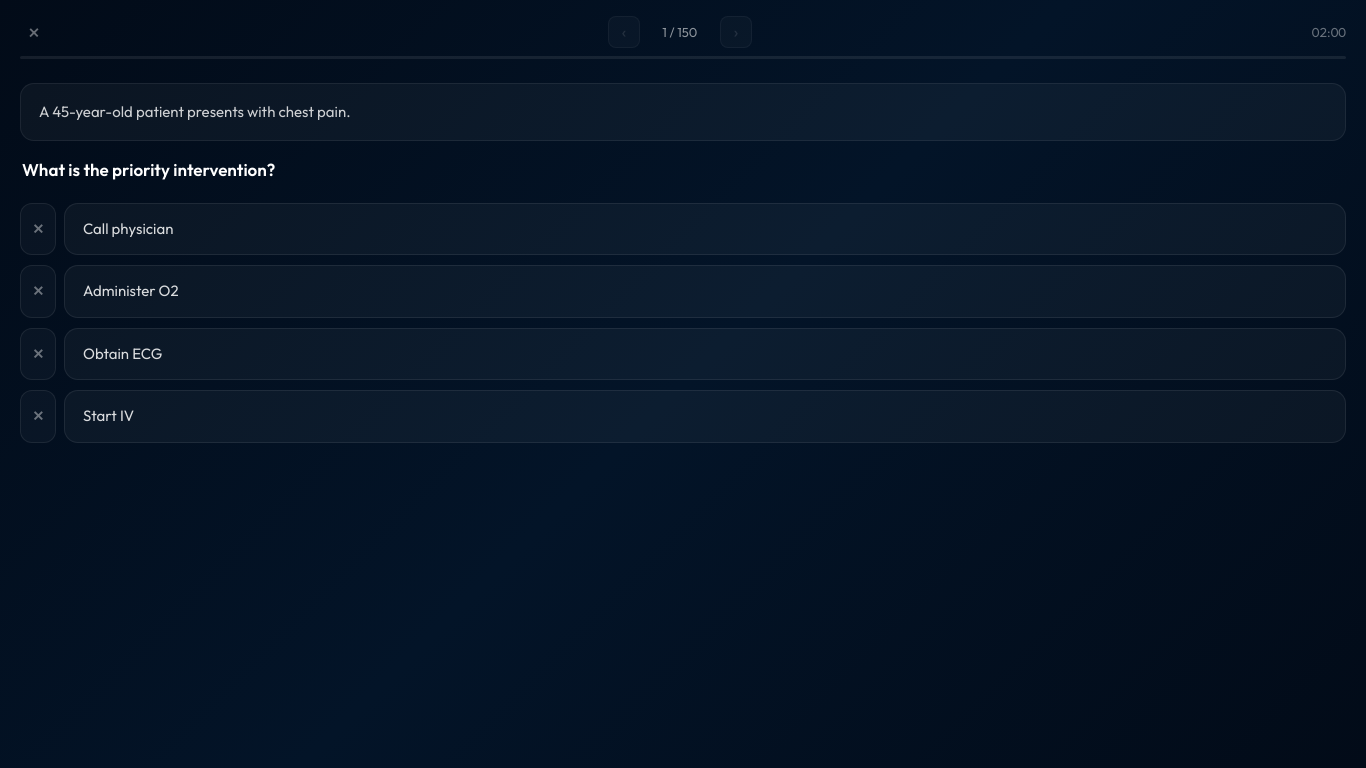
CATScreen › dismisses exit modal when "Keep Going" is clicked
The image size is (1366, 768).
Click the button named "Exit CAT": (34, 32) [20, 17, 48, 47]
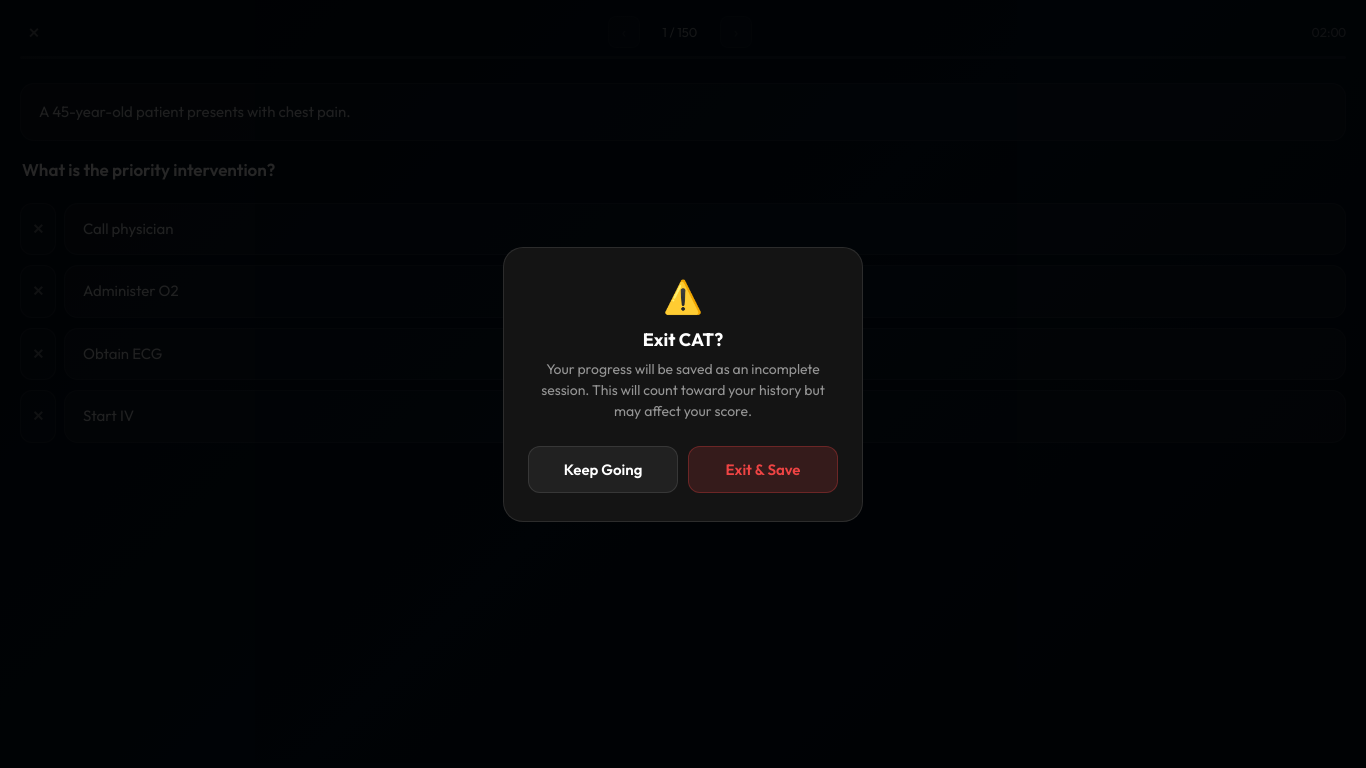
Click the button "Keep Going": (603, 469) [528, 446, 678, 492]
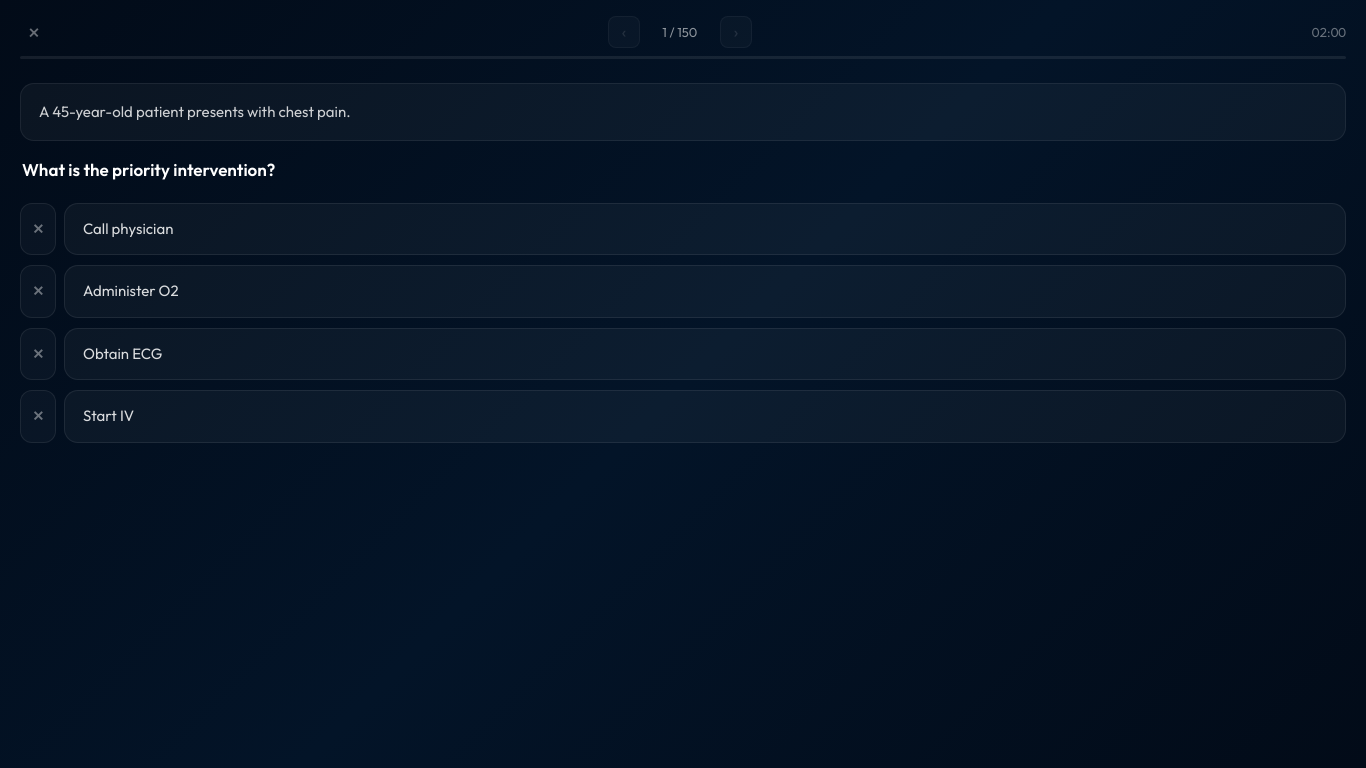
Expected: the heading "Exit CAT?" is gone
